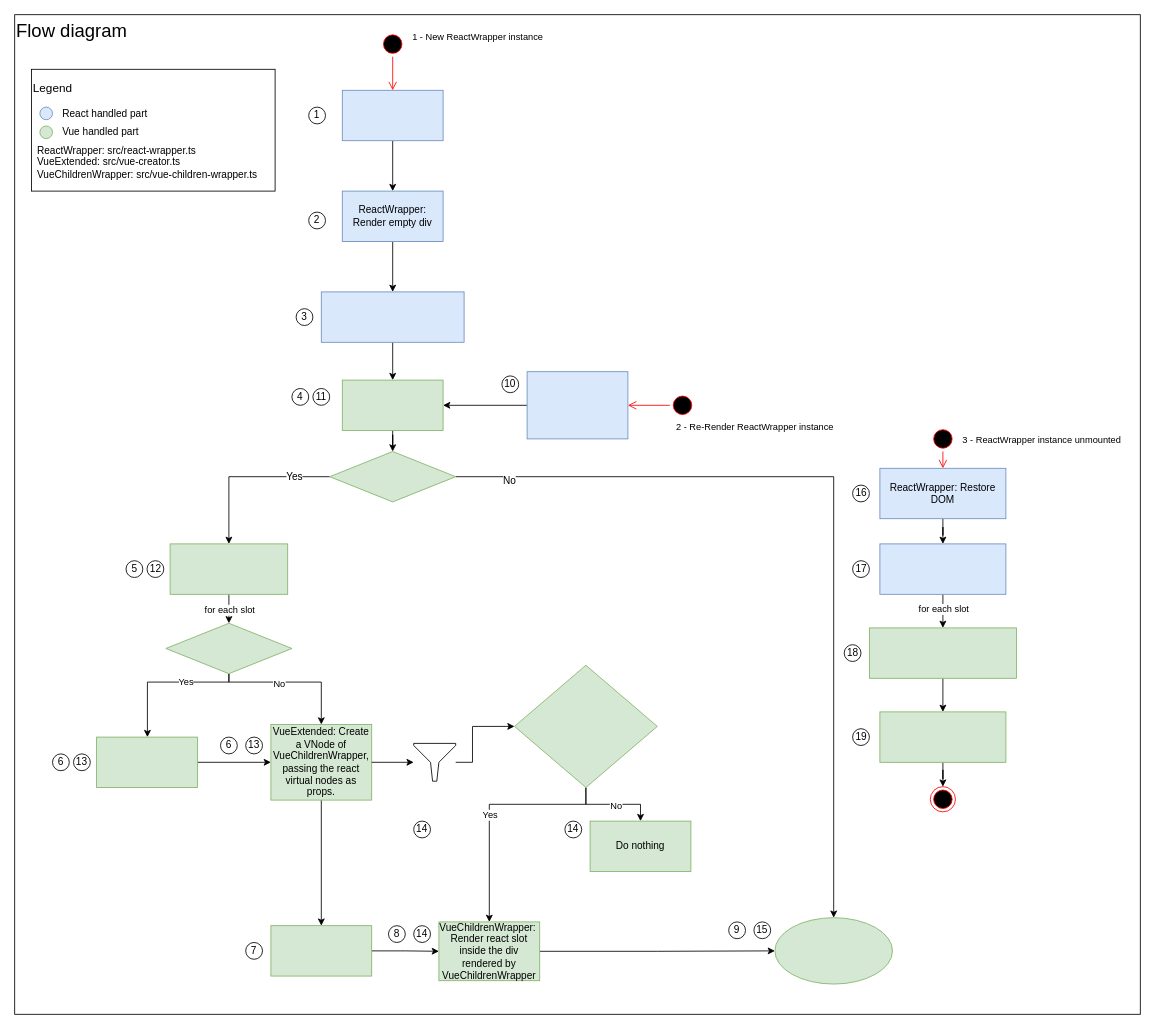
This 1155x1029 diagram has some shape labels left out. The centre of each missing label's shape, as x and y in pixels:
DOM successfully updated: point (833, 950)
ReactWrapper Ref callback: Mount Vue in the created div: point (392, 316)
ReactWrapper: create Vue instance with the initial React props: point (392, 115)
ReactWrapper: Destroy Vue instance: point (942, 568)
ReactWrapper: Sync props with Vue instance: point (577, 405)
Vue diff algorithm: point (434, 762)
VueChildrenWrapper: Have the React virtual nodes changed?: point (585, 726)
VueChildrenWrapper: Restore react rendered nodes to the non-attached div: point (942, 652)
VueChildrenWrapper: Unmount React component: point (942, 736)
VueExtended: Has slots?: point (392, 476)
VueExtended: Is it an scoped slot?: point (228, 648)
VueExtended: Mount VueChildrenWrapper: point (321, 950)
VueExtended: Start Render: point (392, 404)
VueExtended: Transform ReactWrapper slots to Vue slots: point (228, 568)
VueExtended: Wrap React scoped slot into a Vue scoped slot: point (146, 762)
